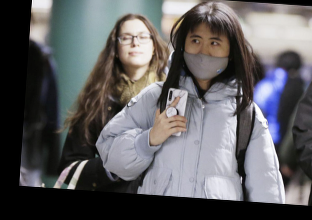with_mask: (181, 34, 231, 80)
without_mask: (115, 28, 154, 67)
